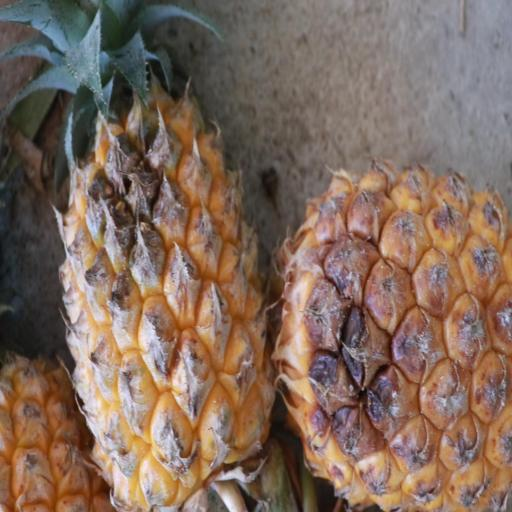Pineapple - v8 v1: (52, 4, 272, 512), (274, 162, 512, 512)
